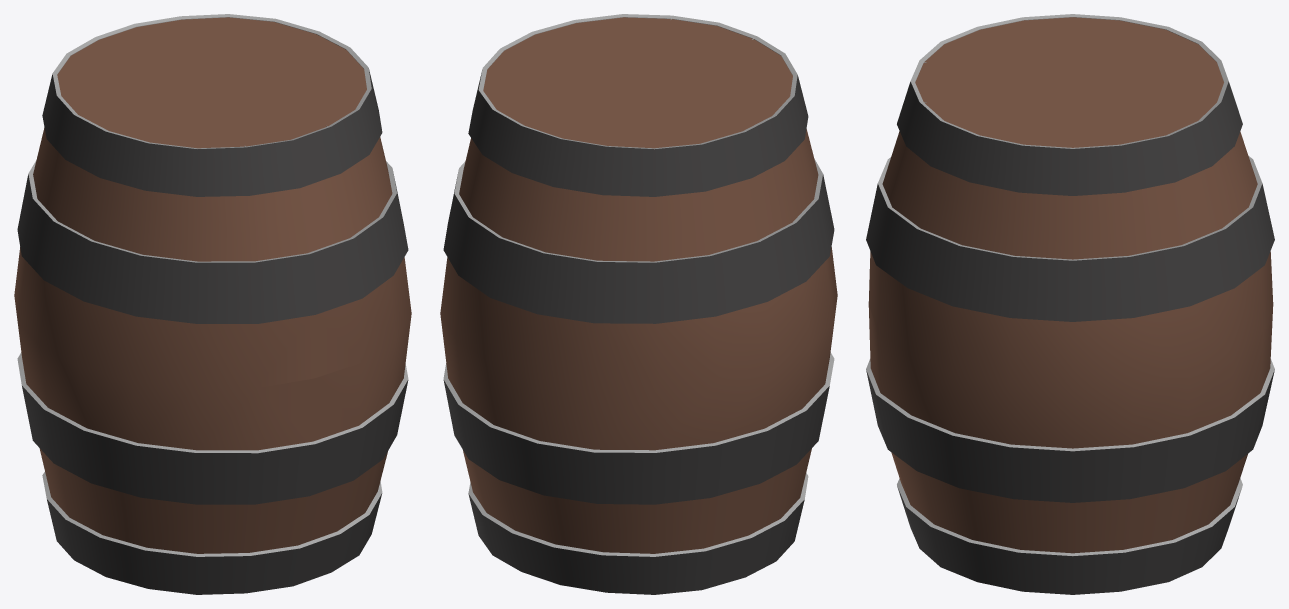
Rendered from barrel export.fbx.
3 renders of one model, left to right at view 1: azimuth 30°, elevation 25°; view 2: azimuth 150°, elevation 25°; view 3: azimuth 270°, elevation 25°, orthographic.
Parts seen in each view (by area): view 1: barrel1; view 2: barrel1; view 3: barrel1.
Boxes of the visible parts, <box> form: barrel1: <box>14,14,411,594</box>; barrel1: <box>440,14,837,594</box>; barrel1: <box>866,14,1274,594</box>.
Bounding box in the file's own units: 0.8222 × 1.01 × 0.8416.
